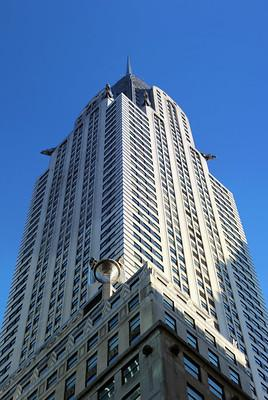building: (1, 67, 268, 400)
